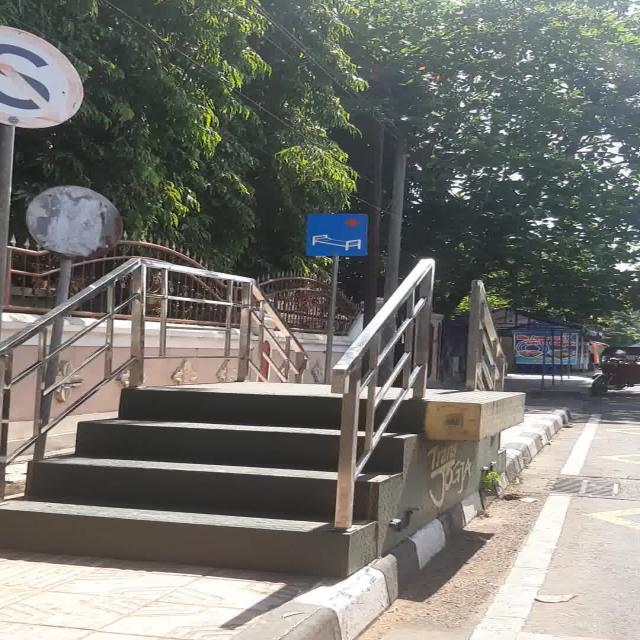Rumah Sakit: (308, 214, 368, 256)
